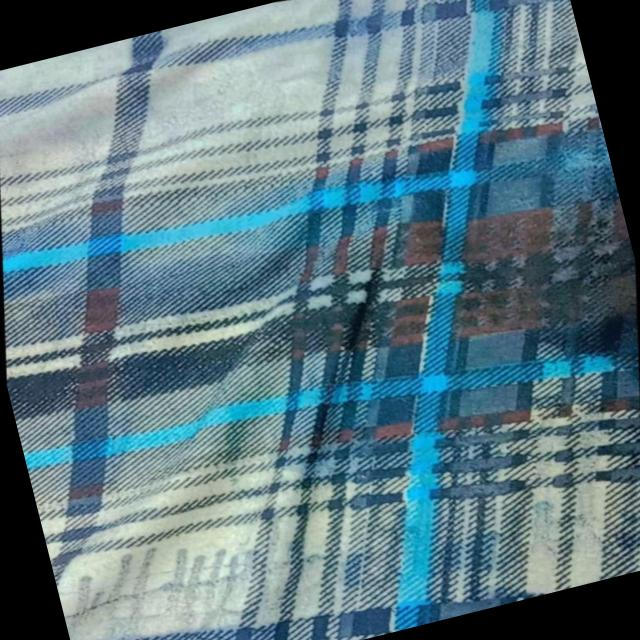baekra: (169, 64, 640, 539), (51, 422, 640, 640), (0, 0, 520, 202)
